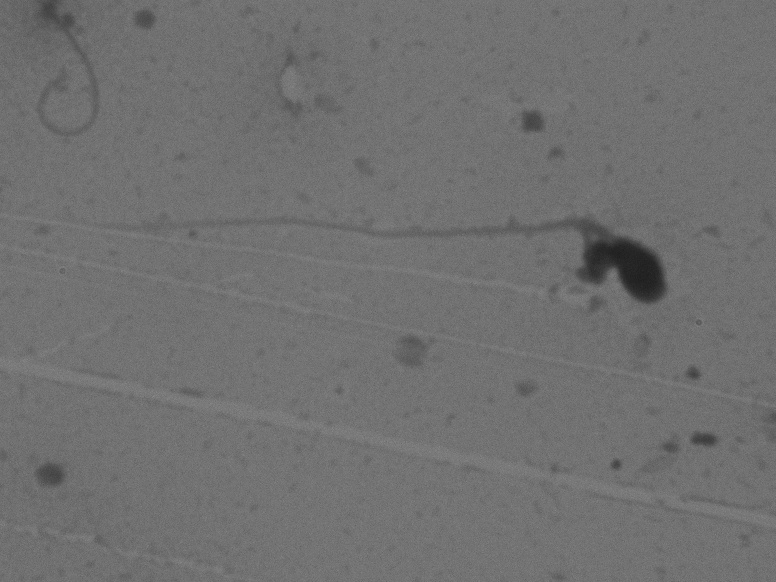Abnormal: (53, 169, 706, 339)
